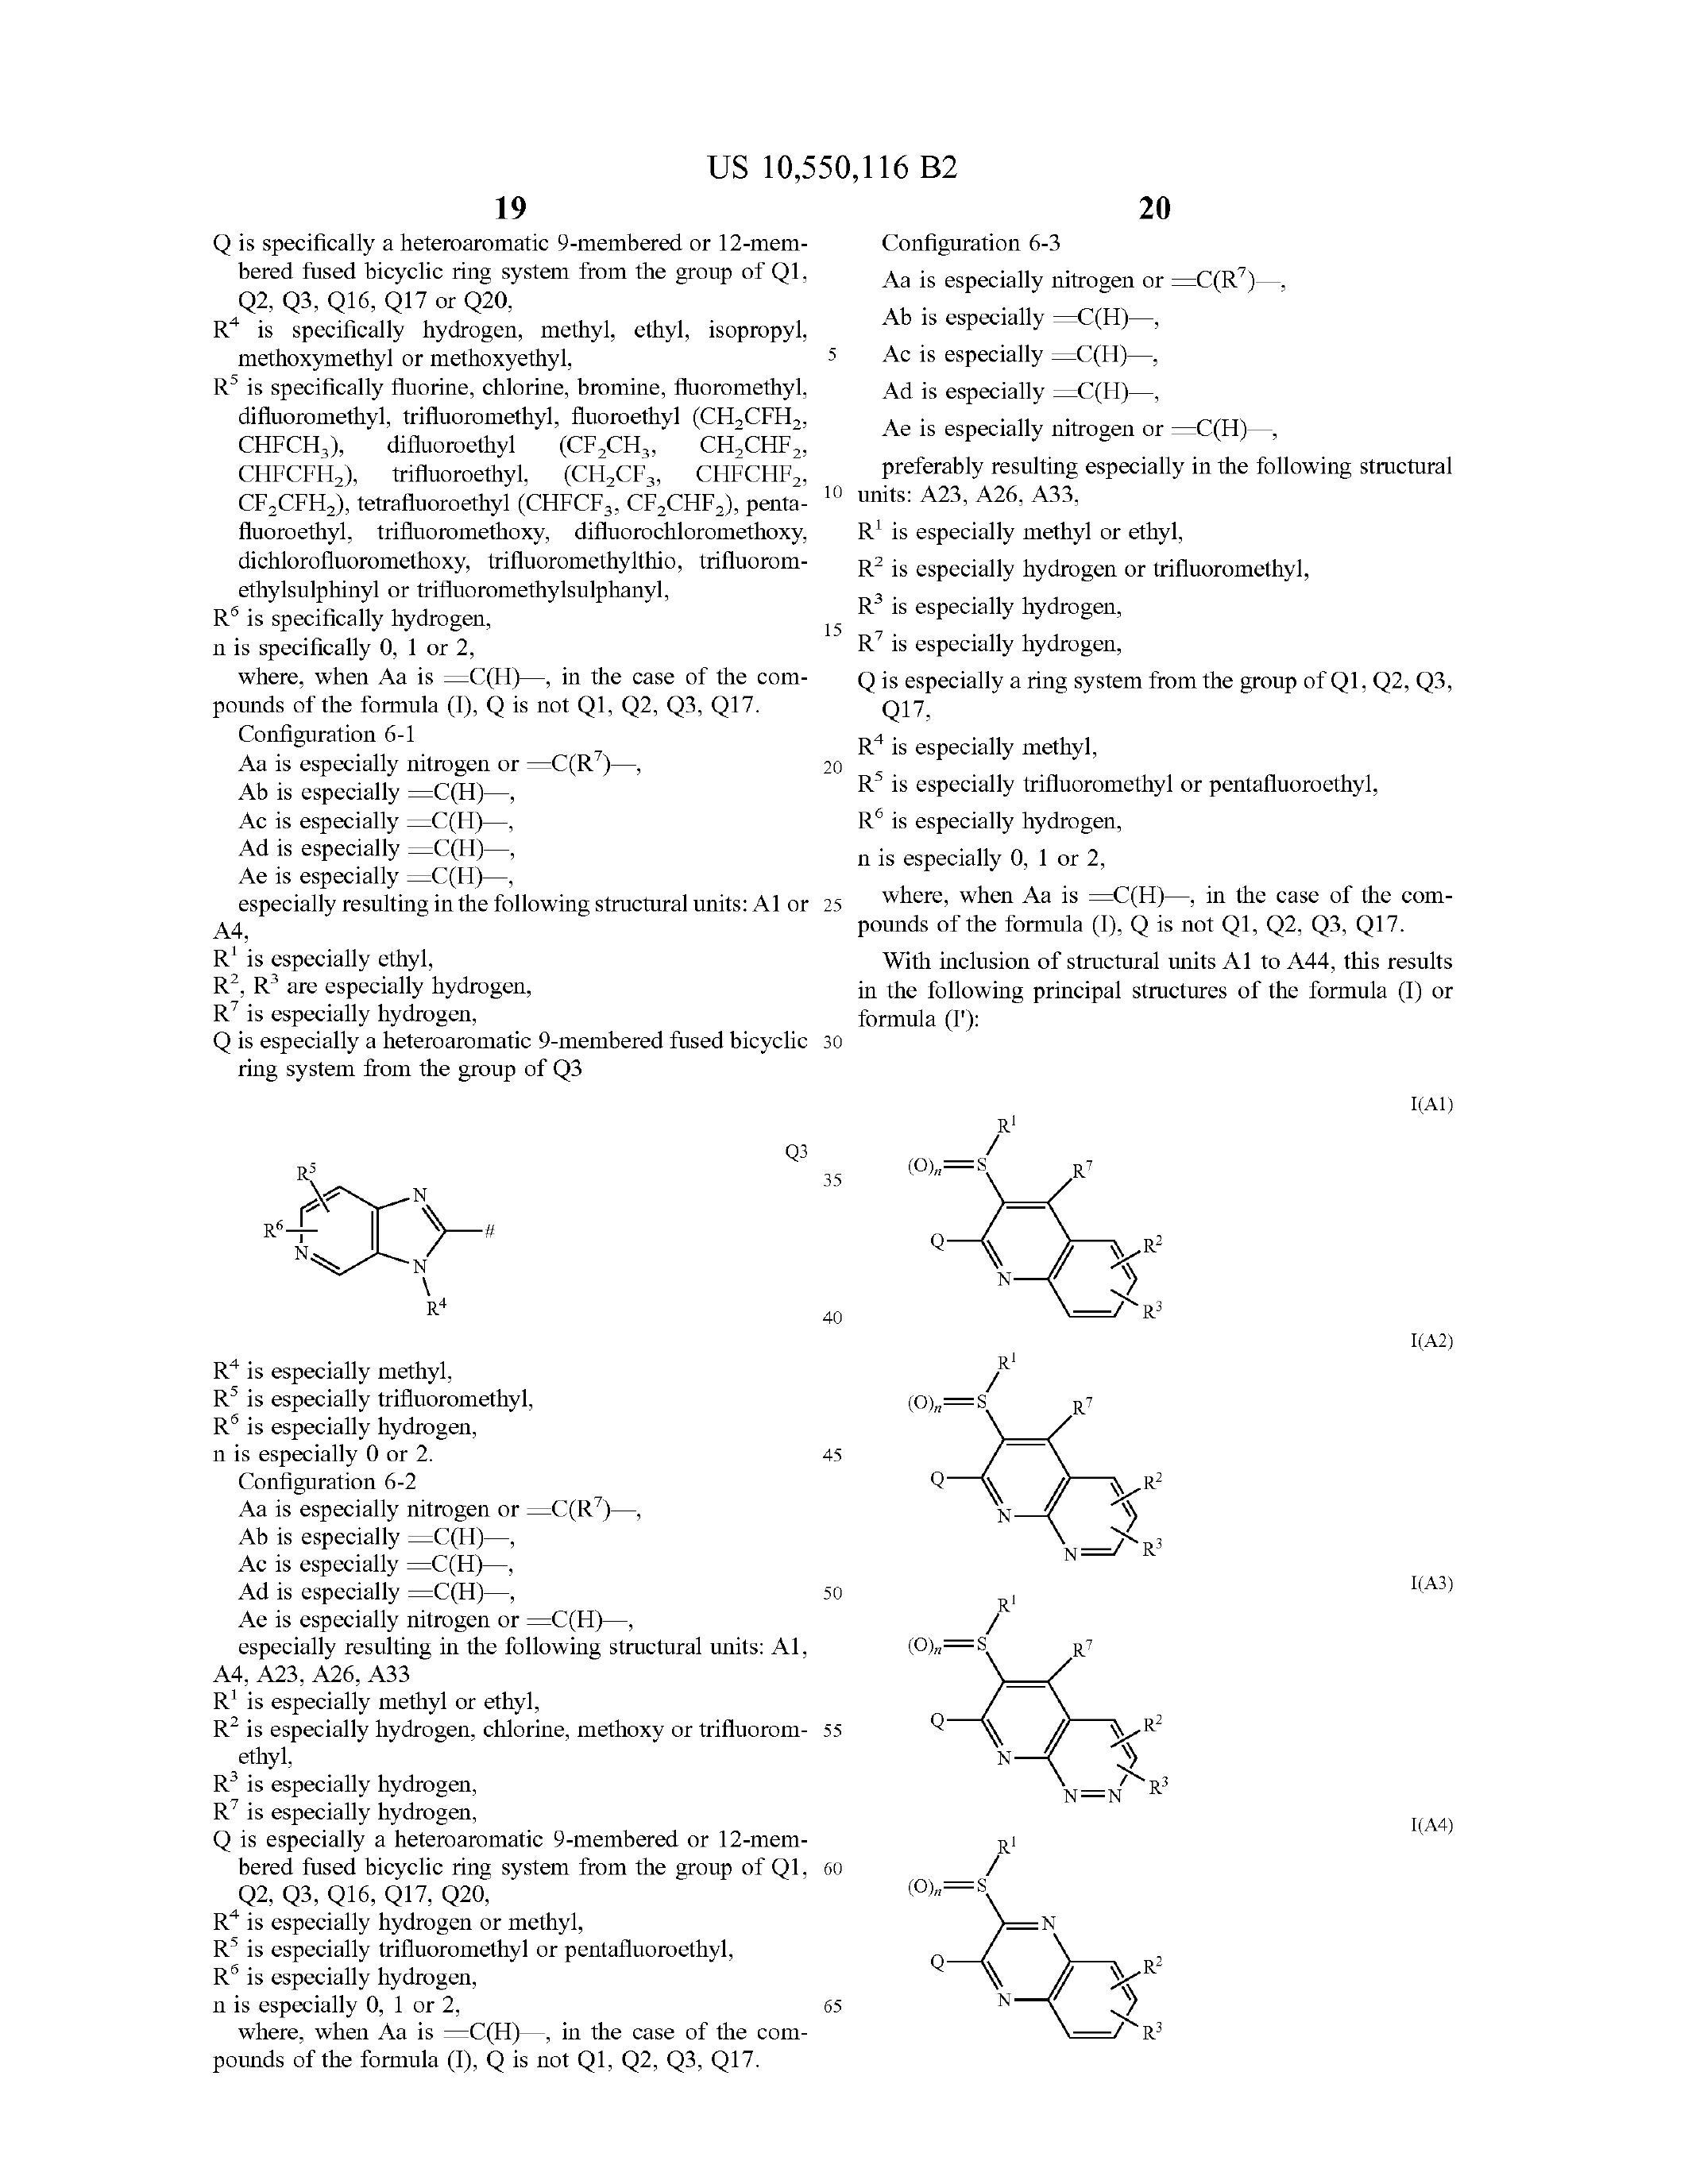markush-structures: (887, 1831, 1192, 2085), (881, 1340, 1179, 1594), (894, 1087, 1181, 1346), (908, 1603, 1199, 1826), (250, 1122, 516, 1330)
